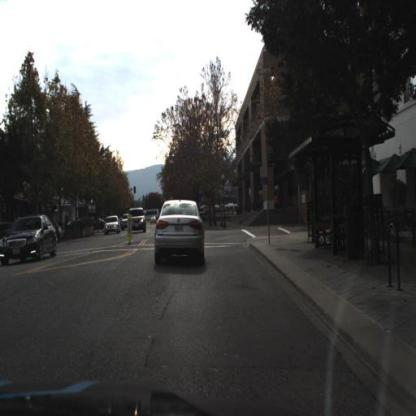car: (155, 200, 205, 268), (1, 216, 61, 265), (125, 204, 148, 238), (128, 207, 146, 234), (103, 215, 122, 239), (104, 215, 120, 237), (121, 214, 131, 231)
pedestrian: (273, 190, 281, 214), (274, 192, 279, 214)
